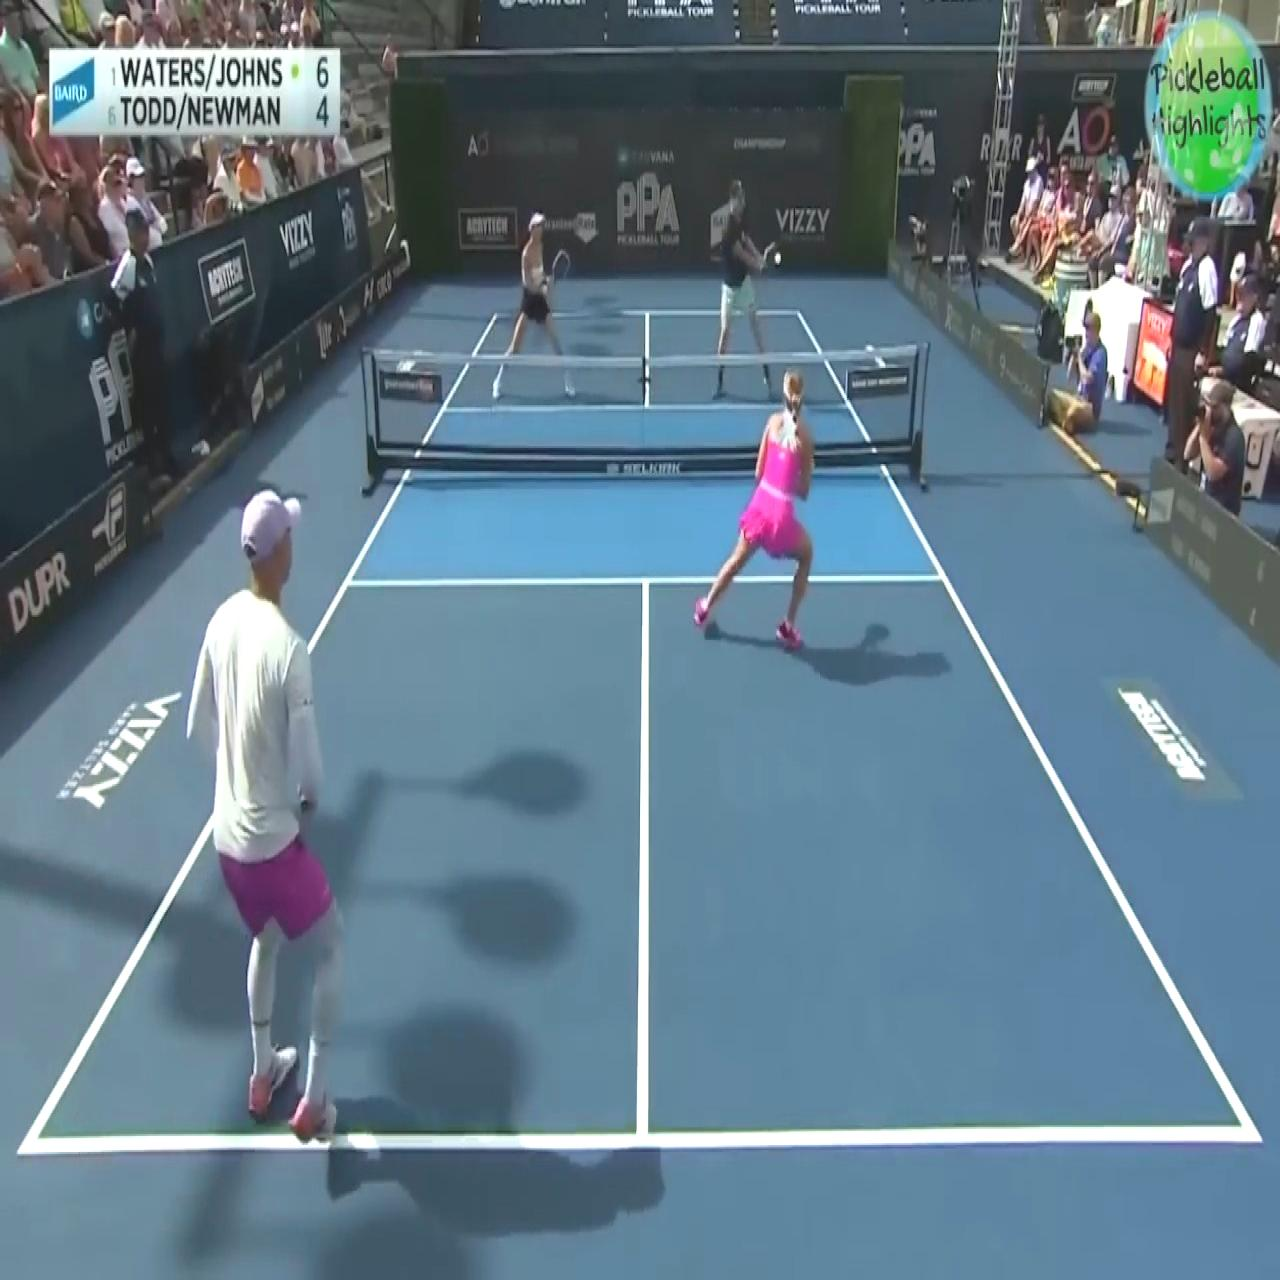Pickleball: (772, 248, 781, 268)
